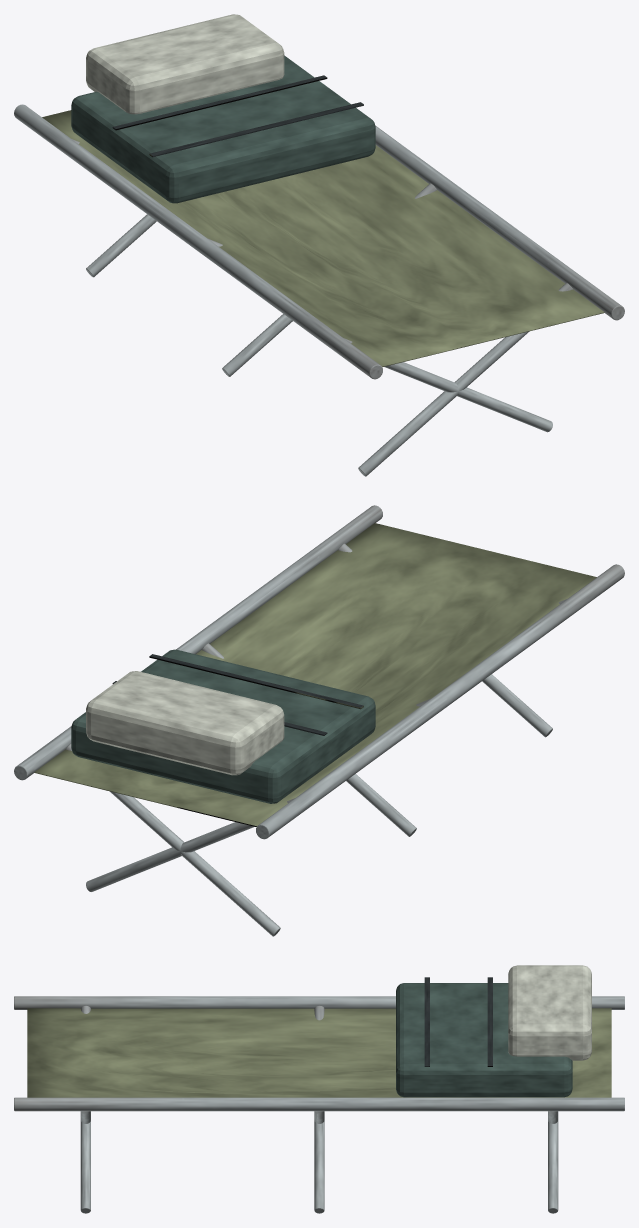
Rendered from GR_CampCot_02.glb.
3 views of the same model, one above another, from view 1: azimuth 30°, elevation 25°; view 2: azimuth 150°, elevation 25°; view 3: azimuth 270°, elevation 25° (orthographic). The views are drawn at different scales.
Visible parts, largest first — view 1: Static; view 2: Static; view 3: Static.
Boxes of the visible parts, x1=… form: Static: x1=14, y1=14, x2=624, y2=476; Static: x1=14, y1=505, x2=624, y2=936; Static: x1=14, y1=965, x2=624, y2=1213.
Bounding box in the file's own units: 0.846 × 0.6637 × 2.04.
1 material, 1 textured.
